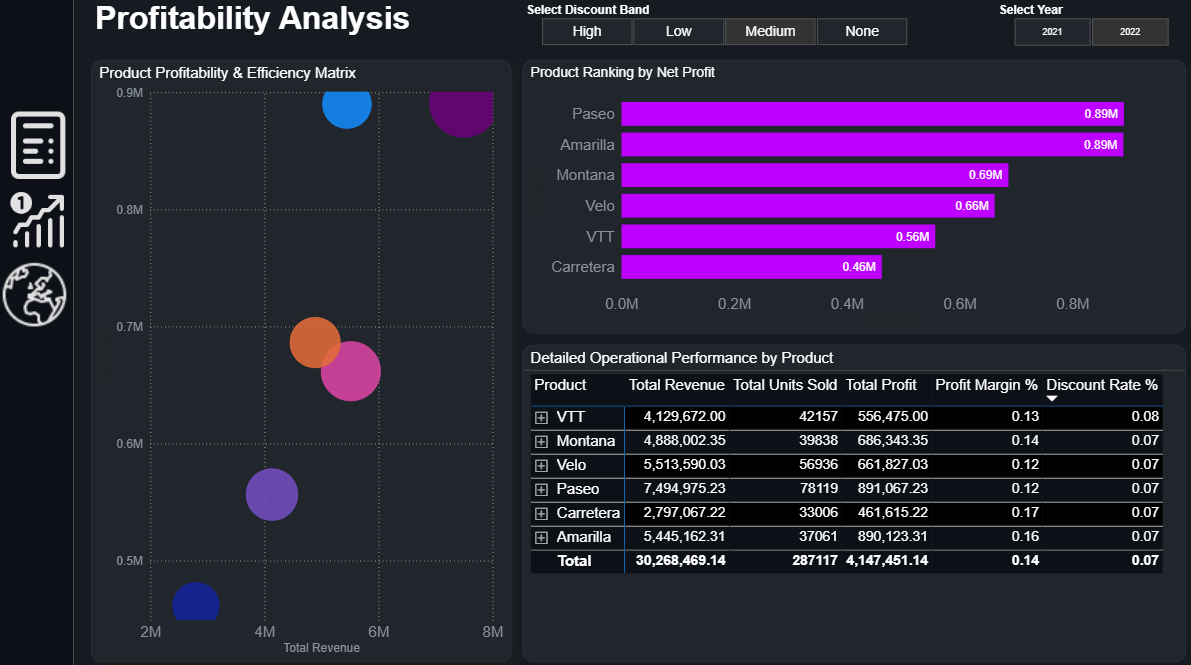

Layout of this report page (visuals, bound fields, positions):
{"tool":"powerbi","page":{"name":"Product & Profitability Analysis","canvas":[1600,900],"ordinal":1},"visuals":[{"type":"shape","box":[0,0,105,1040],"z":0},{"type":"textbox","box":[127.5,0,560,72.5],"z":1000},{"type":"slicer","title":"Select Year","fields":{"Values":["Source.Date.Variation.Date Hierarchy.Year"]},"box":[1333.3,10,255,63],"z":2000},{"type":"image","box":[0,253.3,118.3,93.3],"z":3000},{"type":"image","box":[0,145,115,108.3],"z":4000},{"type":"image","box":[6.7,346.7,91.7,103.3],"z":5000},{"type":"slicer","title":"Select Discount Band","fields":{"Values":["Source.Discount Band"]},"box":[703.6,9.3,537.1,62.3],"z":6000},{"type":"scatterChart","title":"Product Profitability & Efficiency Matrix","fields":{"X":["Key Measures.Total Revenue"],"Y":["Key Measures.Total Profit"],"Category":["Source.Product"],"Size":["Sum(Source.Units Sold)"]},"box":[128.3,85,560,803.3],"z":7000},{"type":"clusteredBarChart","title":"Product Ranking by Net Profit","fields":{"Category":["Source.Product"],"Y":["Key Measures.Total Profit"]},"box":[703.3,85,885,365],"z":8000},{"type":"pivotTable","title":"Detailed Operational Performance by Product","fields":{"Rows":["Source.Product","Source.Color"],"Values":["Key Measures.Total Revenue","Key Measures.Total Units Sold","Key Measures.Total Profit","Key Measures.Profit Margin %","Key Measures.Discount Rate %"]},"box":[703.3,465,885,423.3],"z":9000}]}

Visuals, with their boxes in screenshot pixels (x1, y1, x2, y2), scaled from the page's 1600x900 canvas onto the 1191x665 screenshot:
shape: [0,0,78,664]
textbox: [95,0,512,54]
"Select Year" slicer: [992,7,1182,54]
image: [0,187,88,256]
image: [0,107,86,187]
image: [5,256,73,332]
"Select Discount Band" slicer: [524,7,924,53]
"Product Profitability & Efficiency Matrix" scatterChart: [96,63,512,656]
"Product Ranking by Net Profit" clusteredBarChart: [524,63,1182,332]
"Detailed Operational Performance by Product" pivotTable: [524,344,1182,656]
